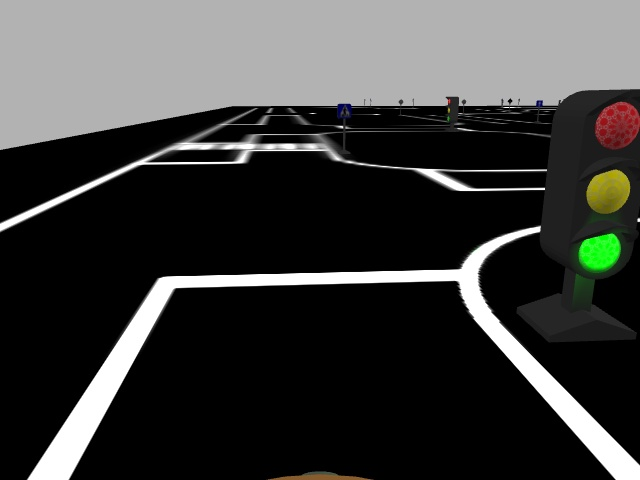green_light: (551, 86, 640, 284)
